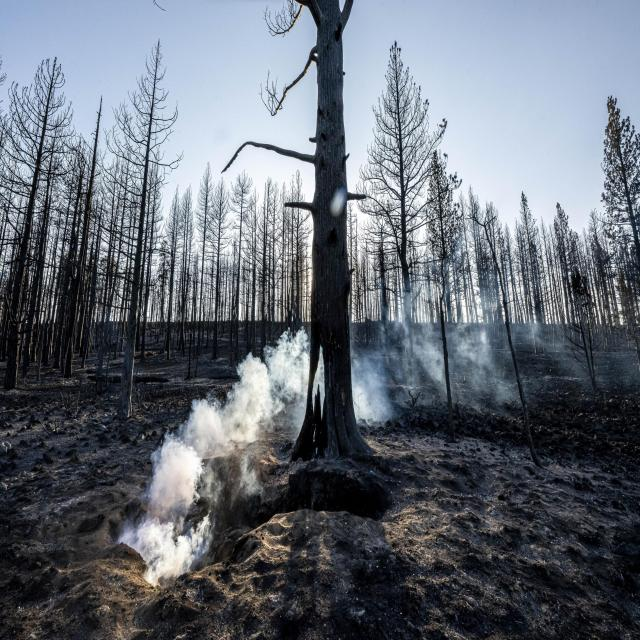Forest Fire: (86, 177, 503, 617)
